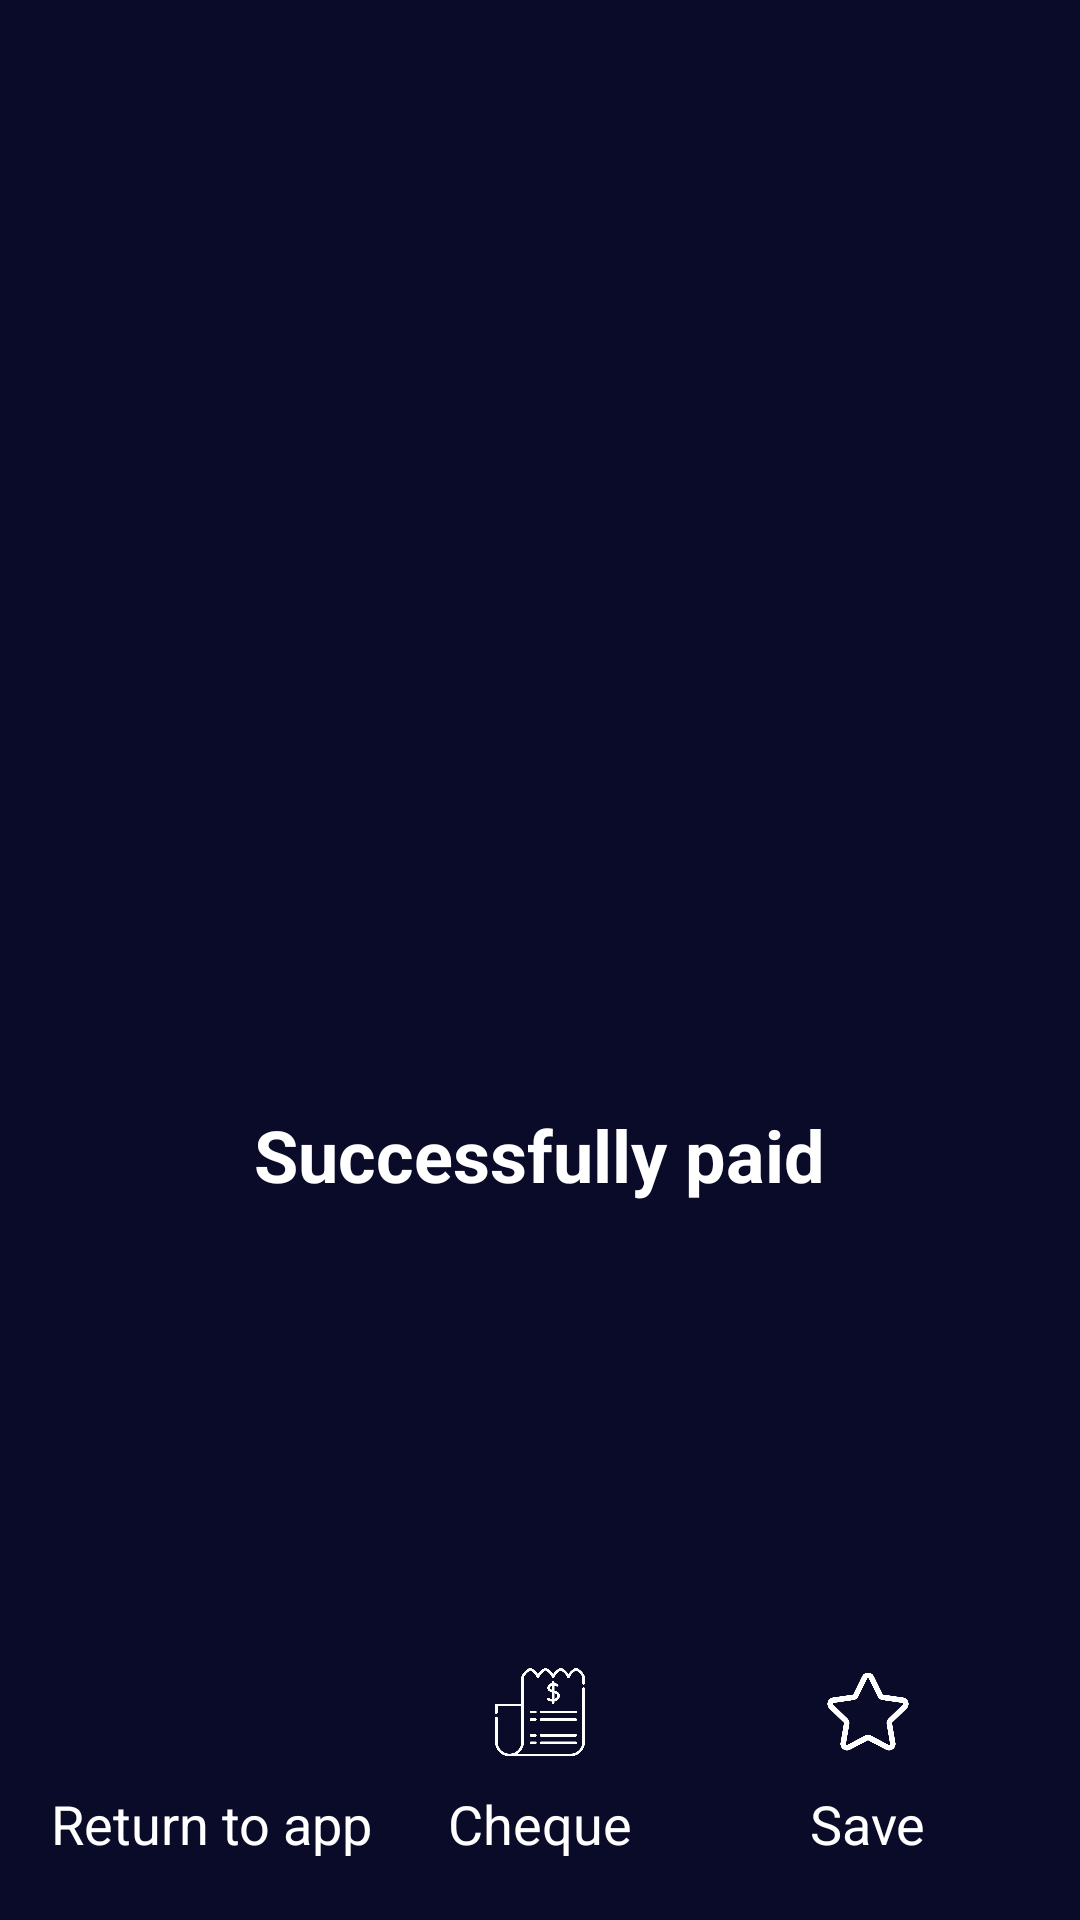

Icon click points for this 1080px×1920px phone screenshot, format (x,y):
star: (868,1712)
